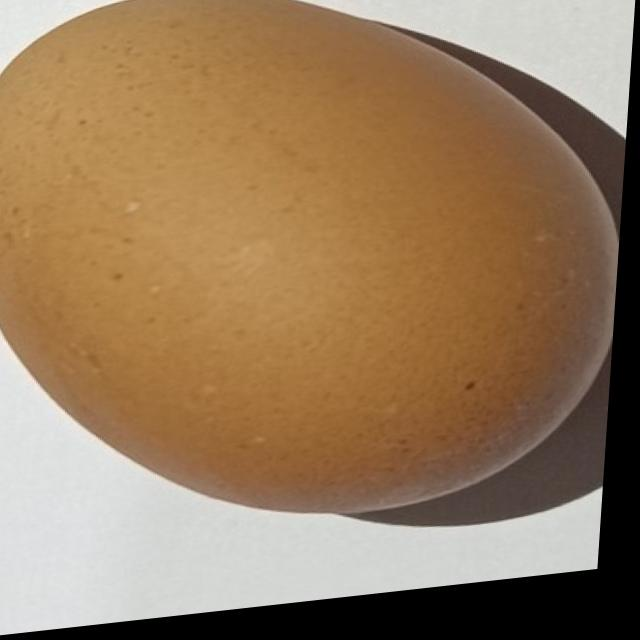fresh: (0, 0, 638, 560)
